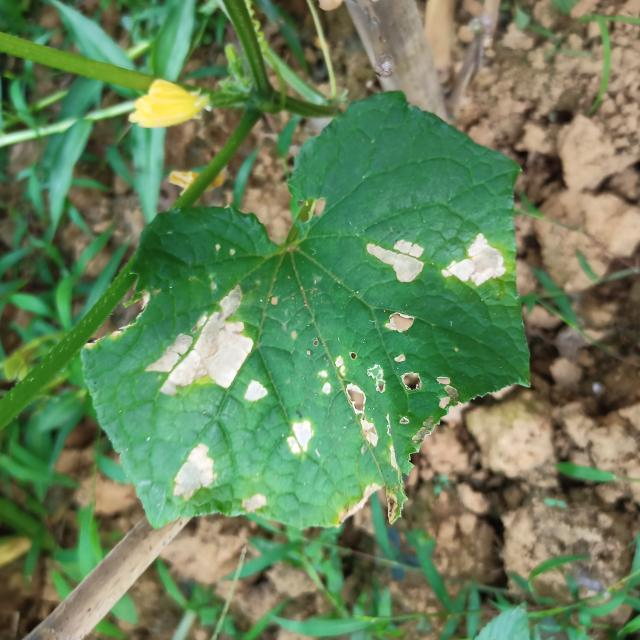disease_cucumber: (153, 270, 325, 520), (346, 217, 509, 321), (332, 311, 446, 456)
